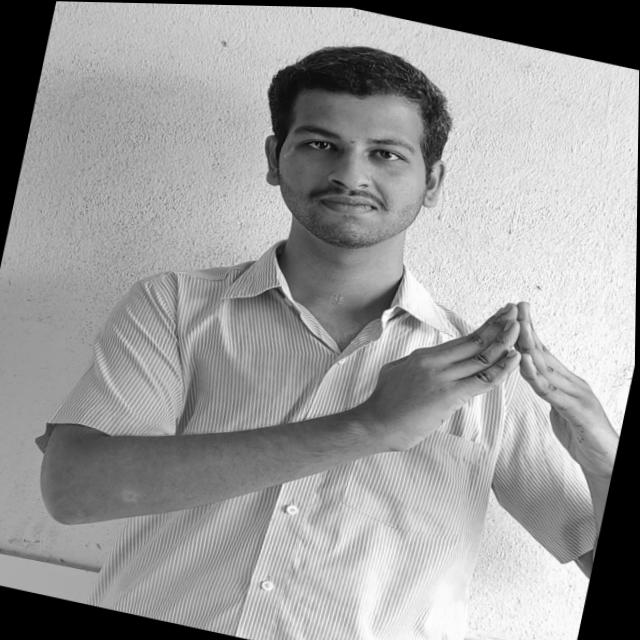Home: (361, 267, 637, 499)
